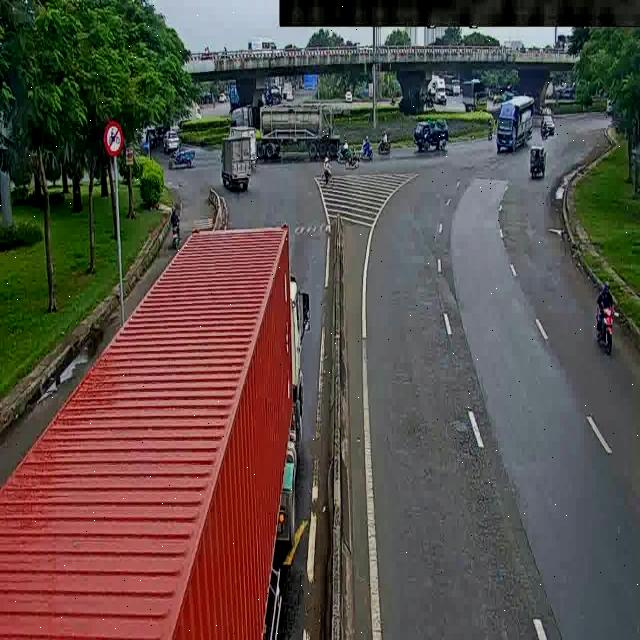bicycle: (318, 158, 334, 187)
car: (161, 129, 183, 153), (540, 108, 559, 135)
motorbike: (584, 285, 625, 349), (162, 203, 192, 243), (530, 142, 558, 182), (157, 148, 210, 166), (340, 143, 363, 175), (371, 132, 396, 153), (361, 135, 376, 155)
truck: (12, 224, 318, 640), (224, 107, 344, 160), (217, 134, 262, 200), (492, 96, 538, 156), (222, 121, 261, 172), (411, 117, 459, 149), (460, 74, 491, 112), (429, 72, 455, 116)
